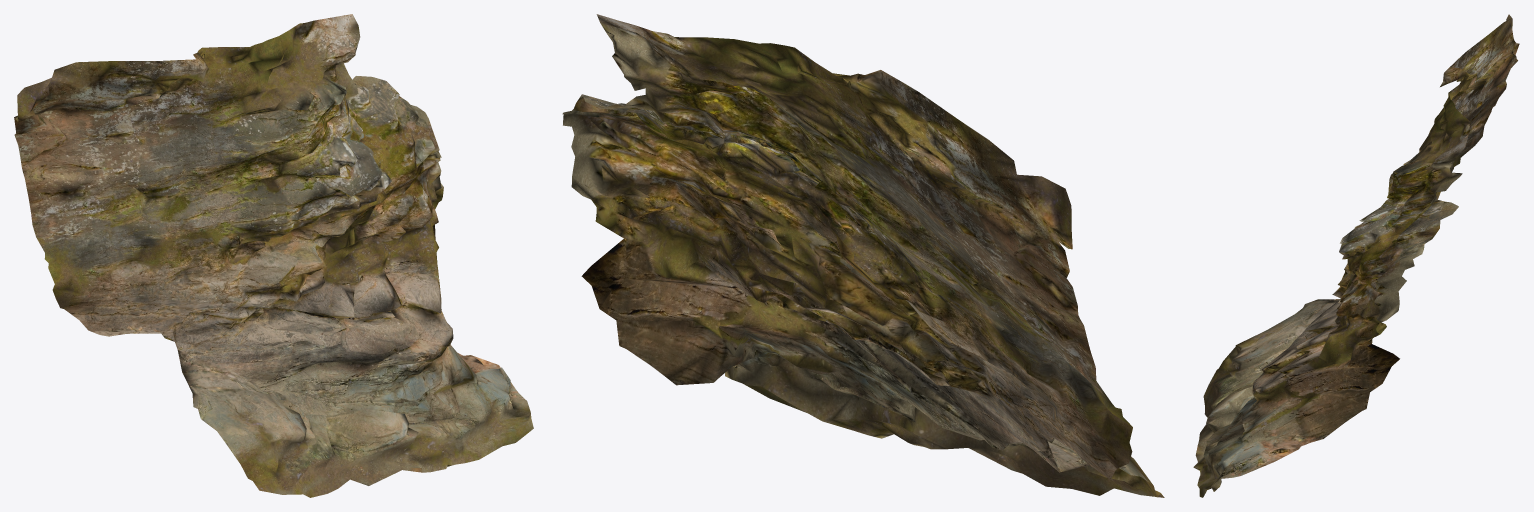
File: rock_face_02.glb
The picture shows the model from 3 angles, left to right: view 1: azimuth 30°, elevation 25°; view 2: azimuth 150°, elevation 25°; view 3: azimuth 270°, elevation 25°; orthographic projection. The views are drawn at different scales.
Parts seen in each view (by area): view 1: rock_face_02; view 2: rock_face_02; view 3: rock_face_02.
Part boxes in pixels (x1,y1,x2,y2): rock_face_02: [14, 14, 533, 497]; rock_face_02: [562, 14, 1164, 497]; rock_face_02: [1193, 14, 1519, 497].
Bounding box in the file's own units: 2.71 × 2.47 × 2.13.
1 material, 1 textured.
